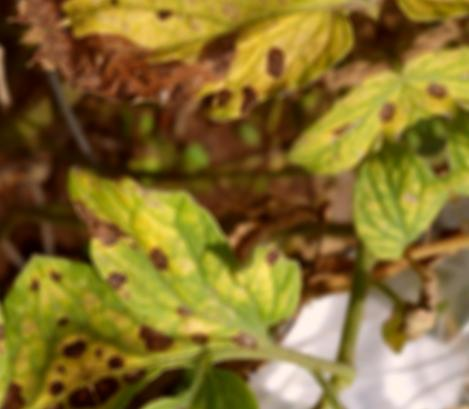Tomato leaf bacterial spot: (53, 102, 324, 406), (2, 0, 390, 191), (272, 58, 429, 191), (332, 130, 469, 273), (100, 349, 276, 409)
